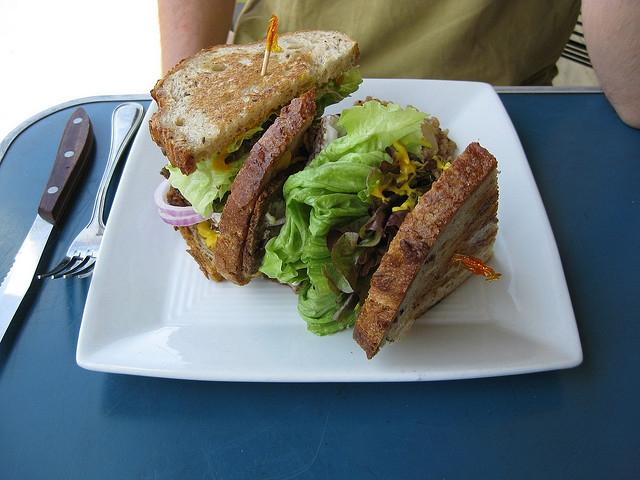lettuce: (258, 100, 432, 336), (164, 126, 264, 218), (314, 65, 362, 120)
onion: (154, 178, 196, 216), (157, 206, 214, 226)
